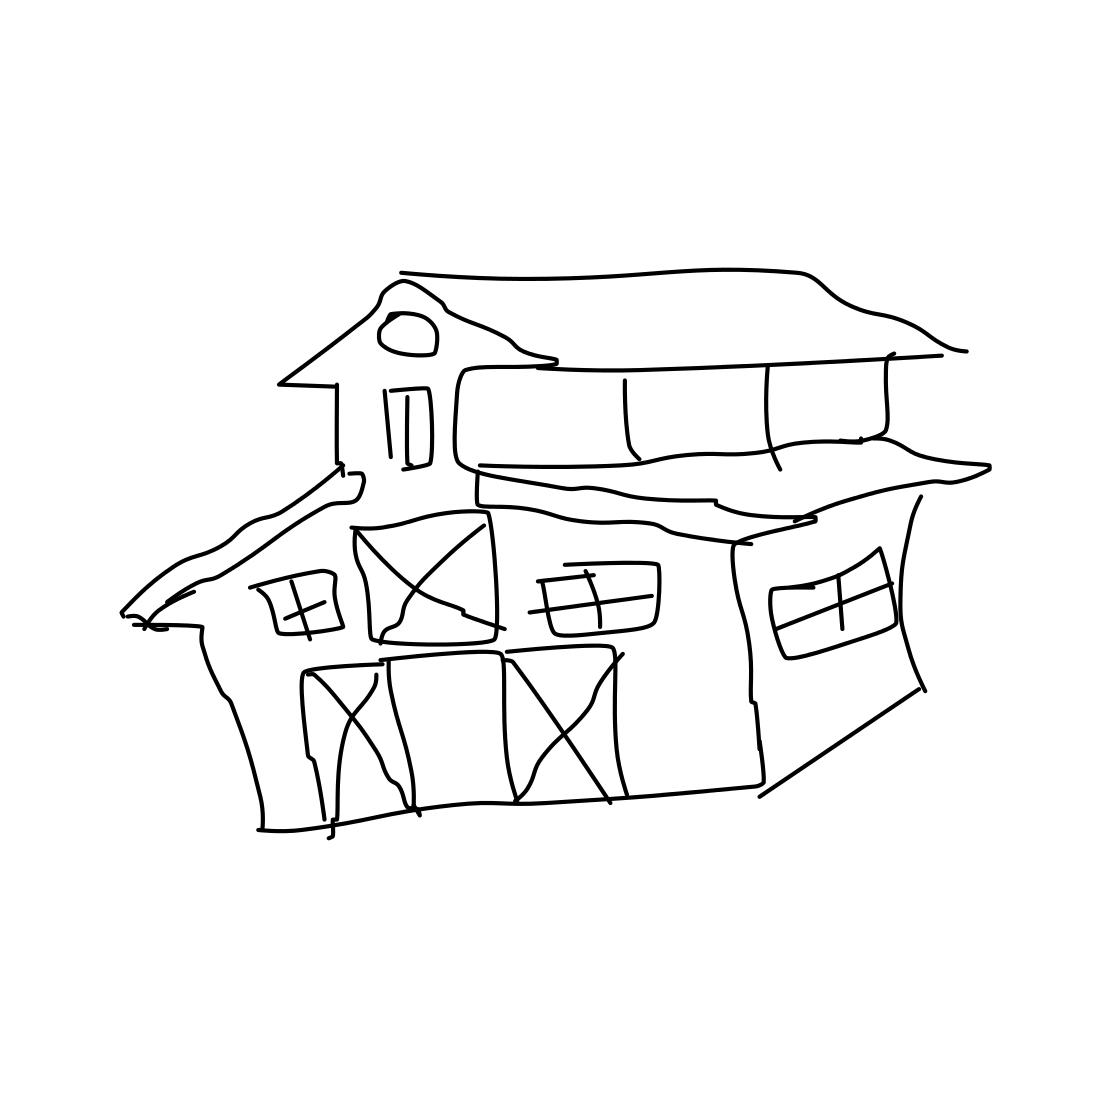House: (87, 215, 1021, 847)
